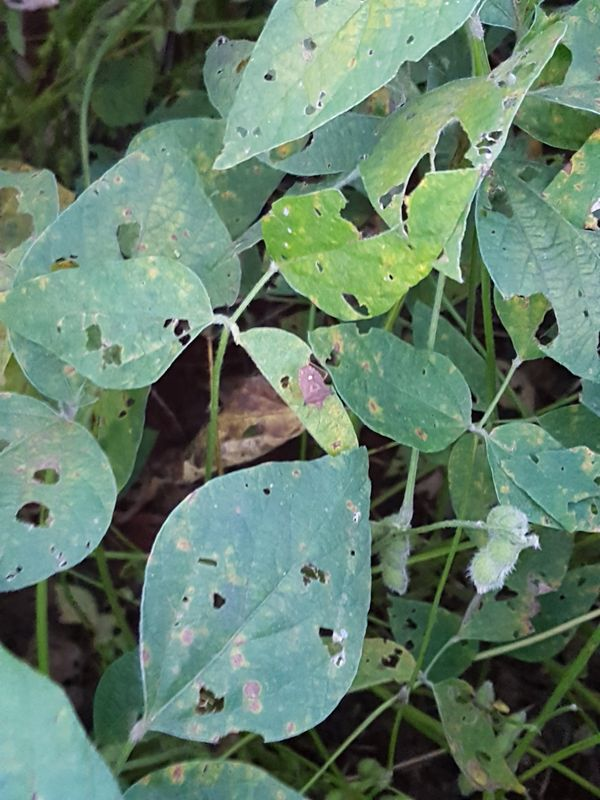Euschistus_heros_adulto: (286, 355, 340, 416)
